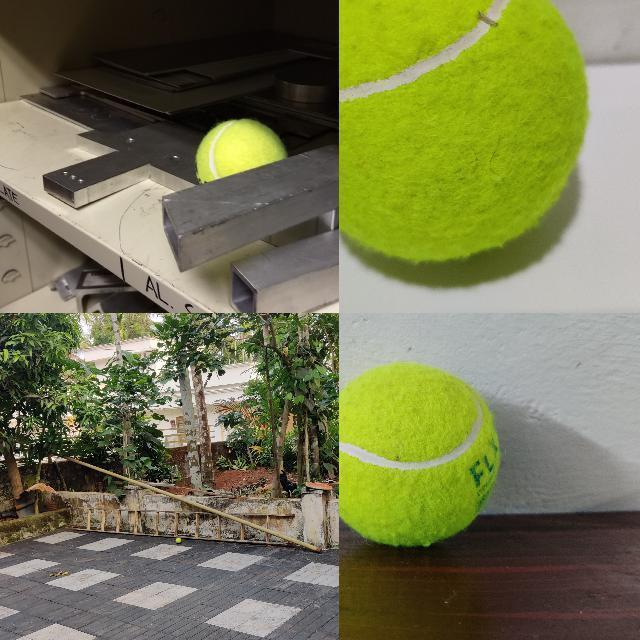tennis-ball: (339, 0, 592, 263), (339, 361, 501, 547), (194, 116, 287, 156), (175, 537, 181, 543)
